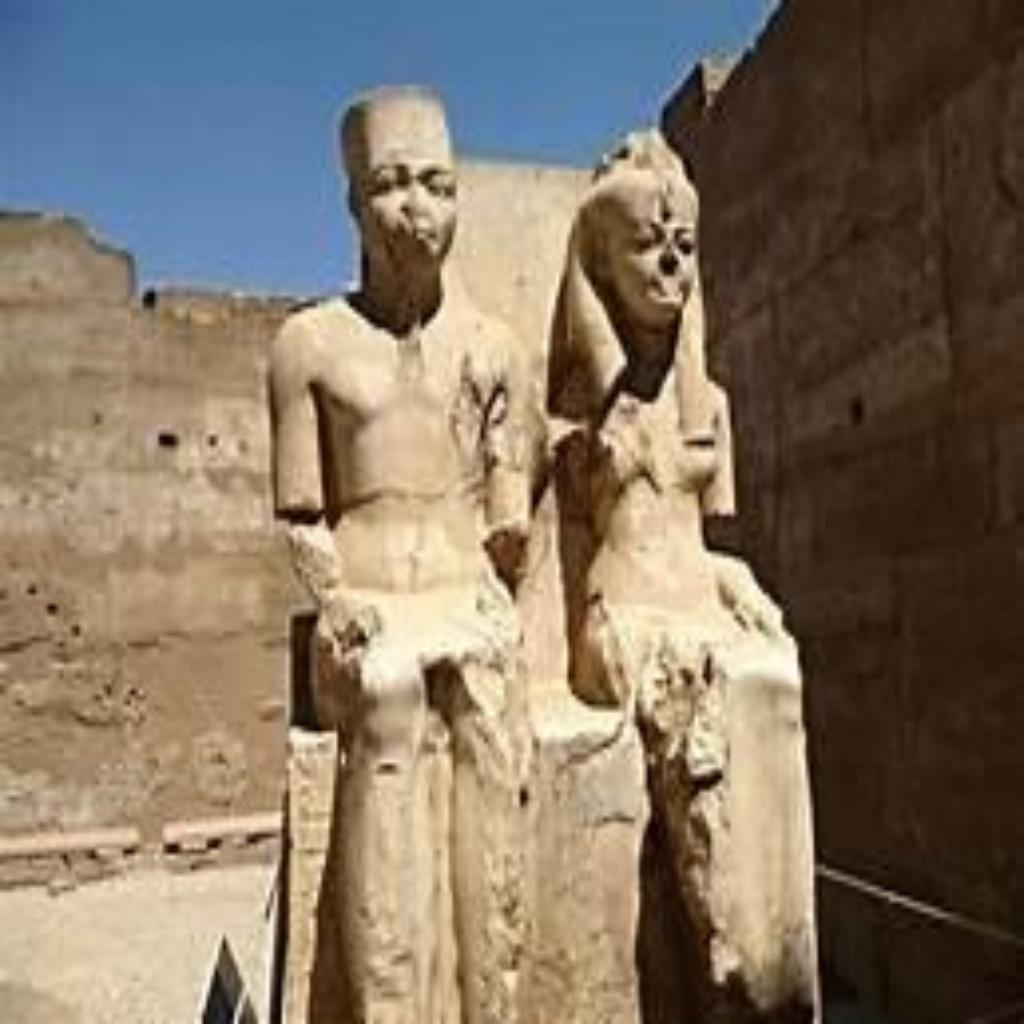Statue of Ankhesenamun: (544, 116, 826, 1018)
Statue of Tutankhamun: (264, 74, 548, 1014)
